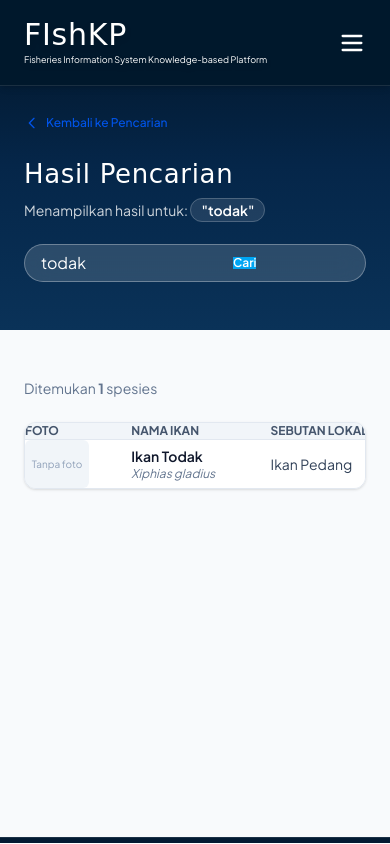
Scenario: Species search filtering over the current complete API response › trims the query and updates results through the existing search form
The width and height of the screenshot is (390, 844).
Check: the text "Ikan Todak" is shown, box [131,447,203,465]
Replace the text in the field with placeholder "Cari kata kunci lain..." with "KERAPU" at (137, 263), box [41,251,233,275]
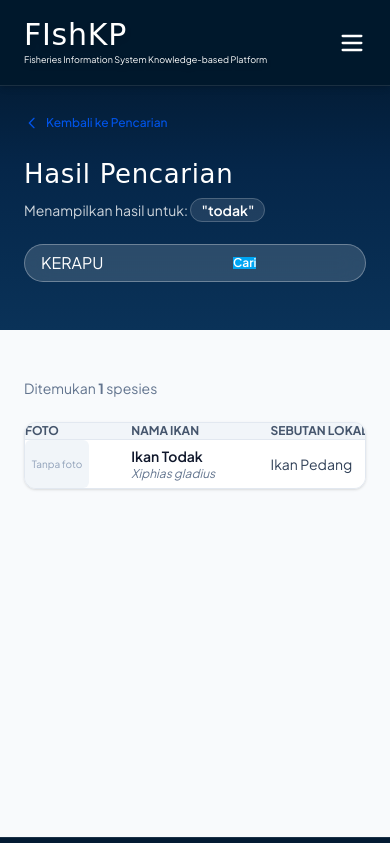
Submit the form "Cari", box [24,244,366,282]
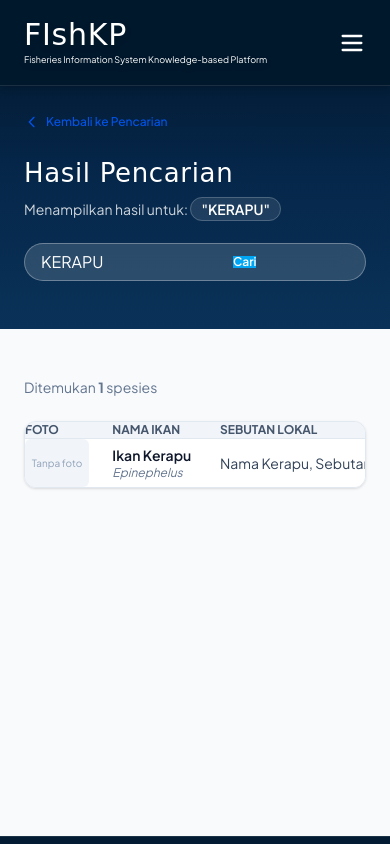
Check: the text "Ikan Kerapu" is shown, box [112,446,191,464]
Check: the text "Ikan Todak" is gone
